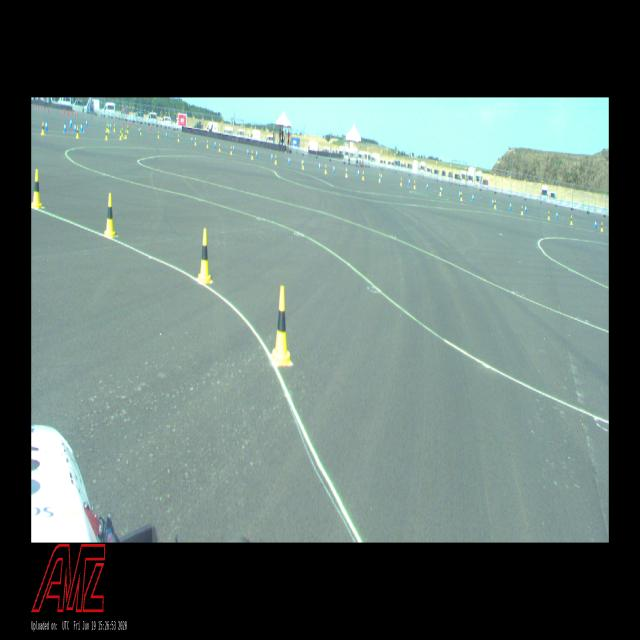blue_cone: (509, 201, 512, 210), (458, 190, 461, 198), (45, 120, 47, 131), (595, 219, 597, 229), (70, 118, 72, 128), (64, 122, 66, 132), (80, 122, 82, 131), (74, 123, 76, 132), (524, 204, 526, 213), (86, 118, 88, 127), (256, 149, 258, 158), (288, 156, 290, 165), (333, 164, 335, 173), (492, 198, 494, 206), (247, 148, 249, 156), (271, 153, 273, 161), (318, 162, 320, 170), (472, 194, 474, 202), (556, 211, 558, 218), (110, 123, 112, 130), (166, 131, 168, 138), (408, 179, 410, 186), (426, 183, 428, 190), (191, 137, 193, 143), (233, 146, 235, 152), (358, 168, 359, 178), (441, 186, 442, 194), (215, 141, 216, 148), (381, 173, 382, 180), (139, 128, 140, 134), (302, 159, 302, 167)
yellow_cone: (270, 285, 292, 366), (198, 228, 212, 283), (105, 194, 117, 238), (32, 169, 44, 208), (600, 222, 604, 232), (41, 122, 44, 135), (76, 126, 79, 138), (570, 215, 573, 225), (378, 174, 381, 182), (194, 138, 197, 145), (252, 150, 254, 160), (521, 205, 523, 215), (106, 130, 108, 140), (120, 130, 122, 140), (302, 160, 304, 170), (346, 168, 348, 178), (275, 155, 277, 164), (548, 211, 550, 220), (400, 177, 402, 186), (362, 171, 364, 180), (230, 146, 232, 155), (460, 192, 462, 201), (439, 187, 441, 196), (108, 124, 110, 133), (324, 165, 326, 173), (494, 200, 496, 208), (414, 181, 416, 189), (125, 130, 127, 138), (140, 127, 142, 135), (219, 144, 221, 152), (127, 126, 129, 133), (158, 132, 160, 138), (122, 128, 123, 136), (178, 134, 179, 142), (107, 124, 108, 131), (114, 124, 115, 131), (207, 141, 208, 148)
